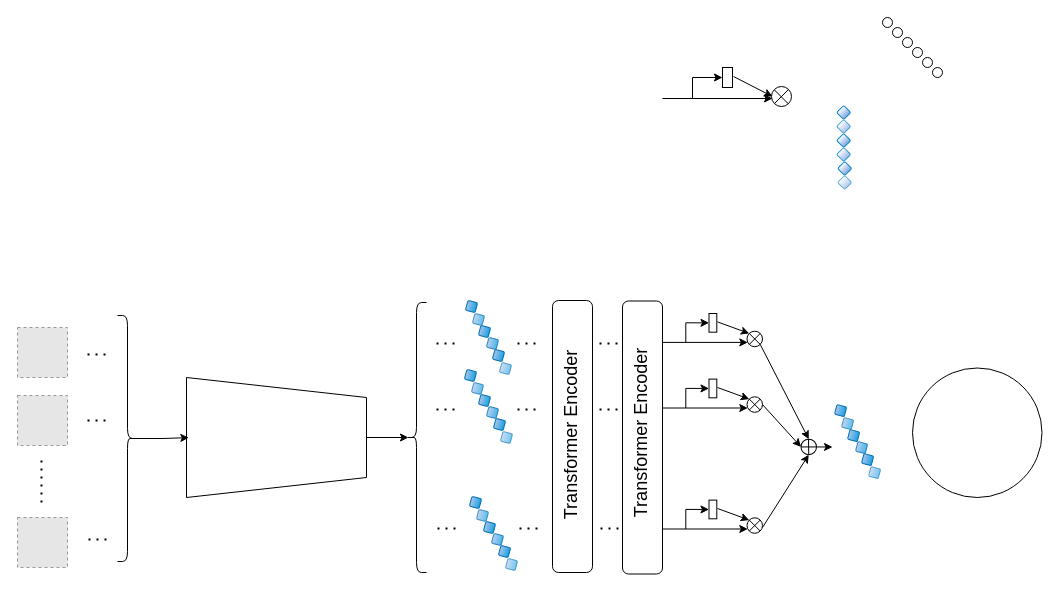
This 1060x592 diagram has some shape labels left out. Grey dashed boxes stand in for pictures. The shapes that lost their labels are listed below. From the top down, each one's centre as x and y in pixels, then its label:
At point (276, 437): "Resnet18-ibn".
At point (977, 432): "ArcFace loss".
